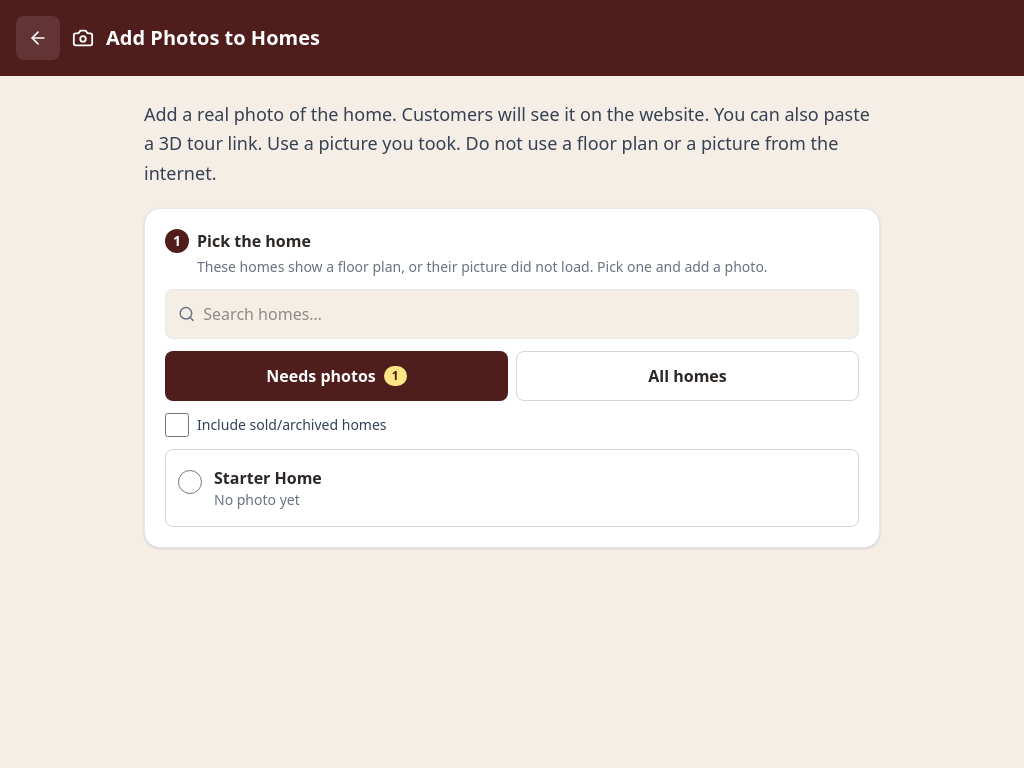
Scenario: Photo Manager 3D tour link › loads a saved tour and removes it
What coordinates should you click on to do the following:
click the radio button labelled "Starter Home No photo yet"
I would click on:
 (190, 482)
Its box is [178,470,202,494].
(page scrolled)
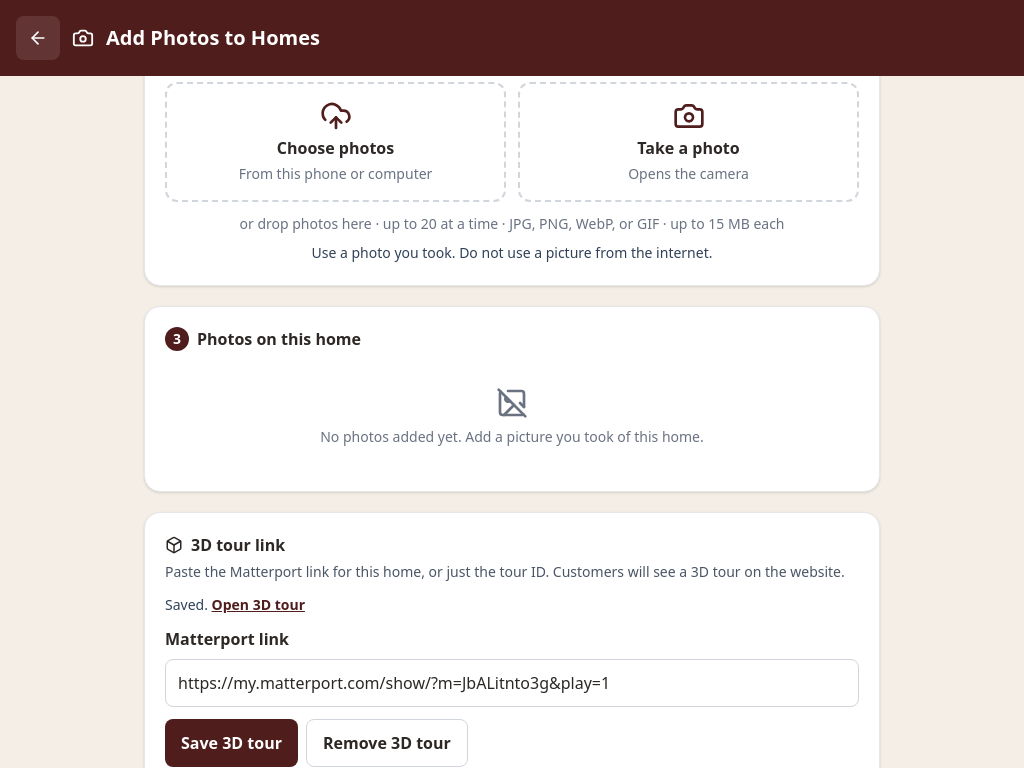
Result: the field labelled "Matterport link" holds "https://my.matterport.com/show/?m=JbALitnto3g&play=1" at [165,659,859,707]
What coordinates should you click on to do the following:
click the button "Remove 3D tour"
I would click on:
 (387, 743)
Its box is [306,719,468,767].
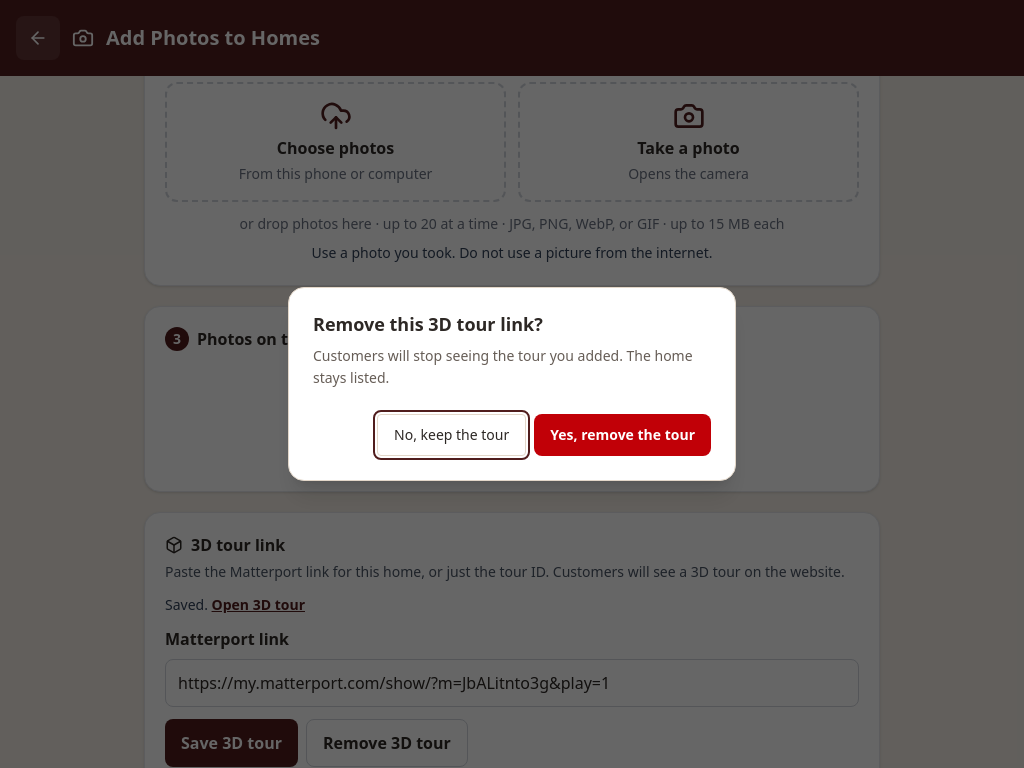
What coordinates should you click on to do the following:
click the button "Yes, remove the tour"
I would click on:
 (623, 435)
Its box is [534,414,711,456].
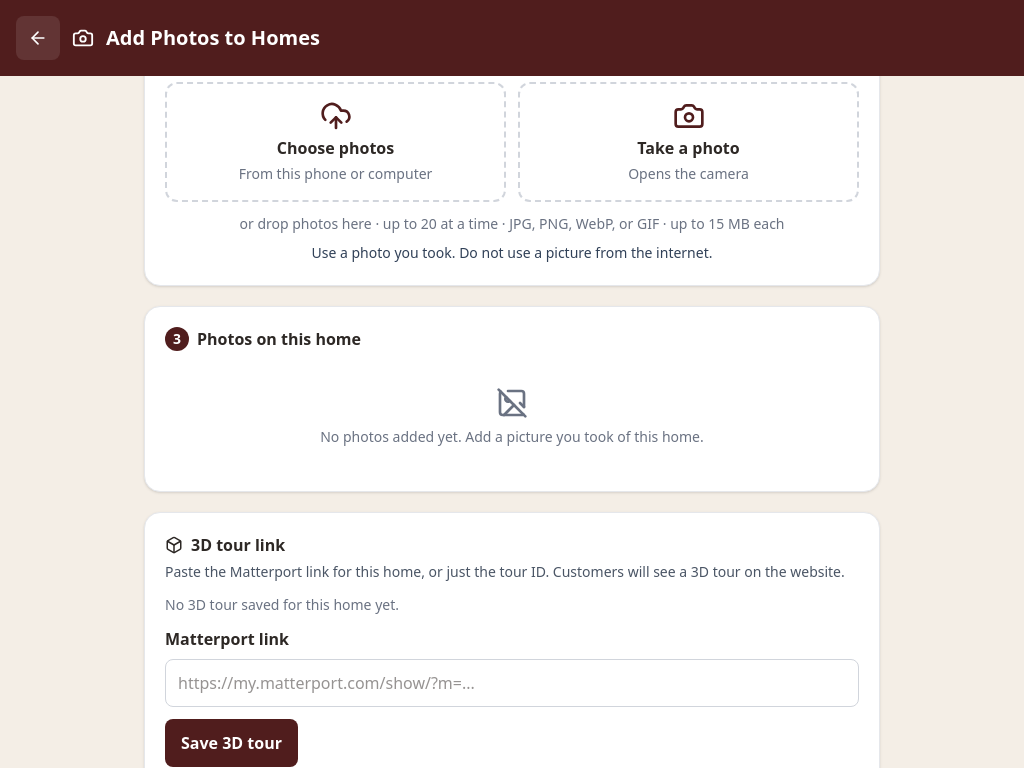
Result: the text "No 3D tour saved for this home yet." is shown at [165,595,399,614]
